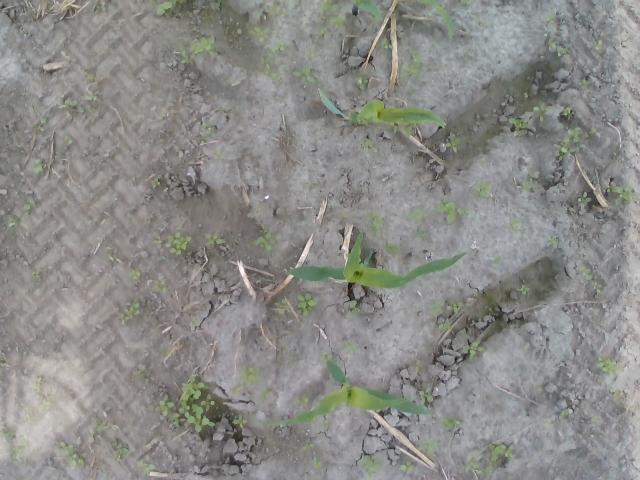Maize: (246, 360, 431, 430), (282, 230, 468, 292), (317, 87, 446, 130), (351, 0, 456, 34)
Weeds: (159, 373, 216, 433), (463, 442, 513, 478), (407, 198, 470, 226), (180, 26, 218, 66), (256, 39, 288, 85), (224, 18, 272, 47), (318, 0, 350, 43), (428, 300, 465, 337), (231, 368, 272, 401), (153, 232, 193, 262), (0, 431, 30, 465), (553, 126, 583, 160), (296, 286, 322, 318), (400, 46, 424, 80), (288, 62, 322, 85), (606, 184, 638, 208), (58, 441, 86, 468), (356, 453, 384, 480), (254, 224, 278, 255), (576, 264, 604, 290), (31, 382, 56, 411), (119, 296, 142, 326), (531, 96, 555, 122), (304, 438, 322, 472), (366, 208, 385, 240), (65, 95, 96, 114), (595, 356, 624, 376), (148, 0, 178, 18), (472, 179, 496, 200), (110, 440, 130, 464), (462, 340, 486, 360), (271, 298, 291, 320), (548, 38, 572, 56), (0, 214, 23, 232), (506, 218, 526, 238), (422, 435, 442, 454), (292, 391, 315, 407), (137, 458, 157, 476), (518, 175, 538, 193), (446, 132, 464, 152), (199, 123, 217, 142), (206, 231, 226, 248), (382, 240, 402, 257), (270, 0, 290, 17), (440, 415, 460, 432), (418, 382, 435, 402), (359, 138, 379, 154), (200, 14, 222, 28), (576, 191, 593, 209), (96, 418, 114, 434), (415, 226, 433, 242), (230, 414, 248, 430), (343, 339, 361, 354), (32, 158, 46, 177), (356, 72, 370, 91), (126, 270, 146, 282), (83, 68, 98, 84), (398, 462, 416, 474), (350, 299, 360, 320), (378, 34, 392, 49), (146, 175, 162, 188), (24, 198, 34, 218), (509, 118, 529, 128), (561, 105, 575, 119), (414, 360, 428, 374), (484, 303, 498, 316), (320, 419, 334, 432), (34, 118, 46, 133), (319, 352, 332, 365), (132, 367, 146, 379), (304, 178, 320, 188), (516, 284, 529, 296), (546, 235, 558, 248), (62, 134, 76, 145), (609, 389, 622, 400), (158, 280, 168, 294), (268, 440, 282, 450), (578, 78, 592, 88), (214, 406, 228, 416), (337, 212, 352, 221), (544, 15, 556, 26), (495, 256, 503, 272), (95, 4, 106, 14), (592, 414, 602, 424), (213, 152, 225, 160), (31, 270, 41, 279), (458, 0, 475, 5), (192, 319, 202, 327), (560, 410, 568, 418)
